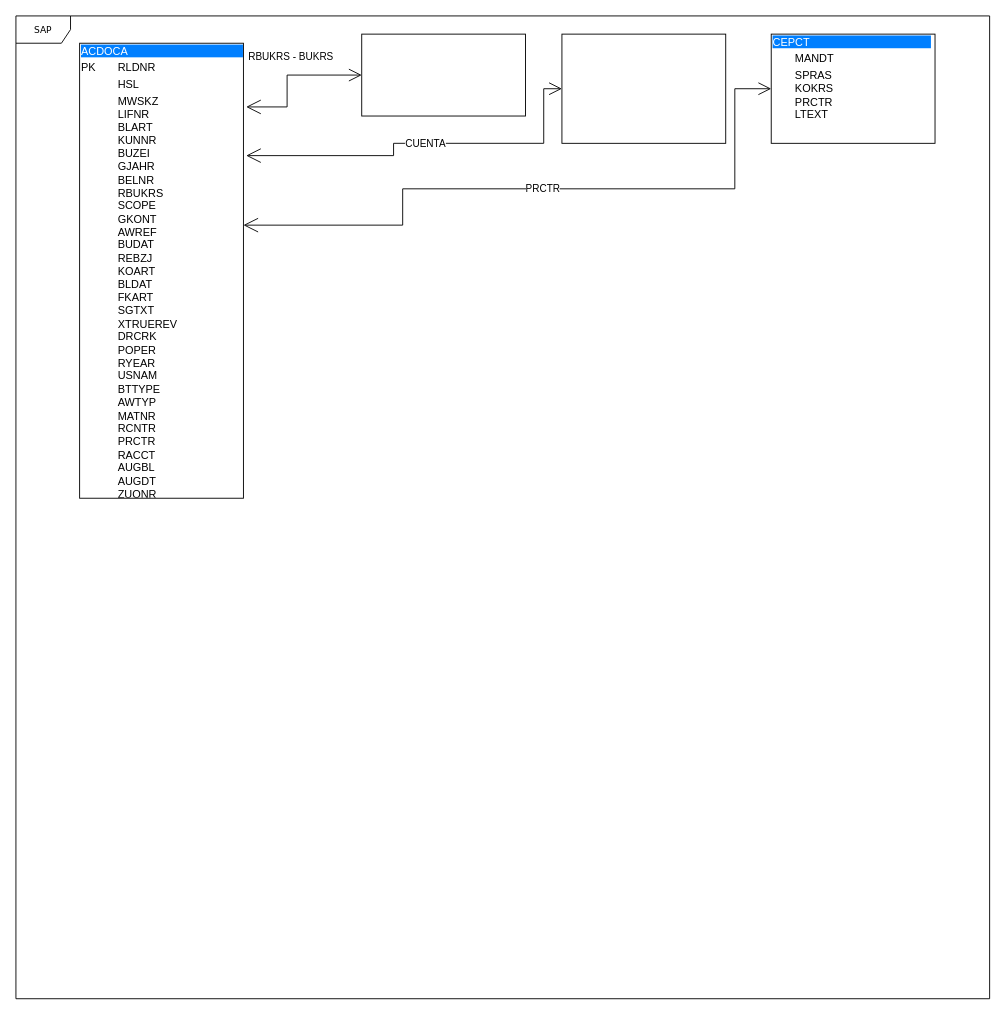
The diagram is 1006 pixels wide and 1015 high, and some of its shapes have lost their labels. The shapes that lost their labels are listed below. From the top down, each one's centre as x and y in pixels, then its label:
the point at 443,74: TOO1 MANDT BUKRS BUTXT
the point at 643,88: SKAT MANDT SAKNR SPRAS KTOPL TXT20 TXT50
